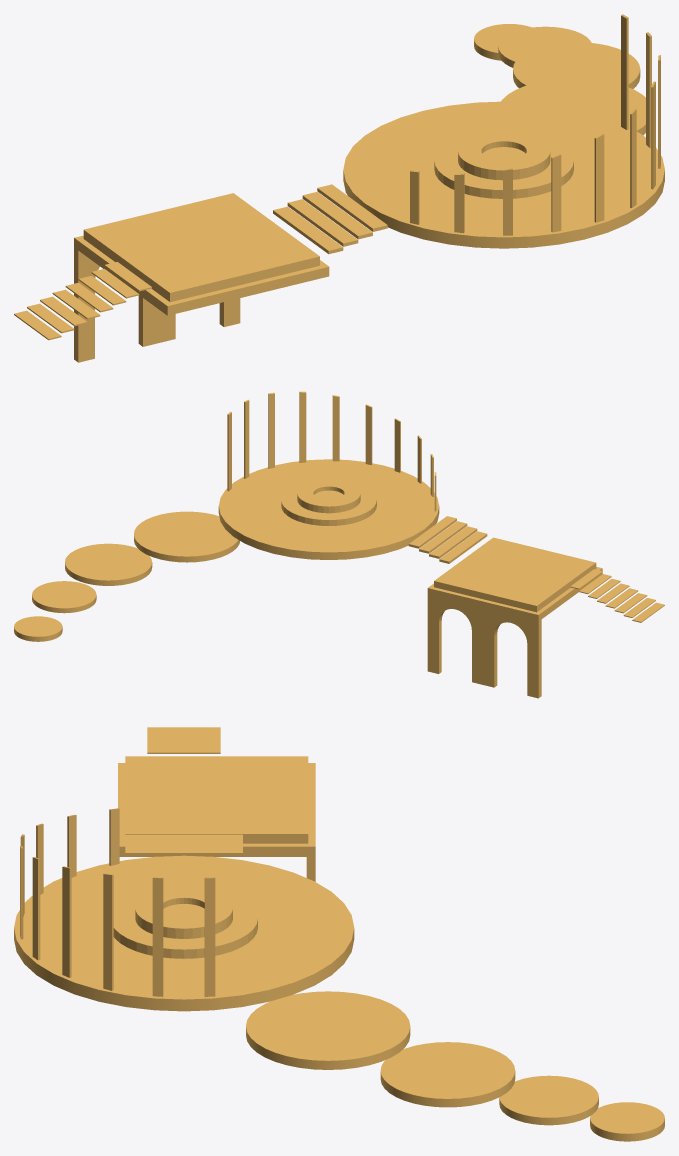
File: OU_AR_Astronomi_01_D.fbx
3 views of the same model, one above another, from view 1: azimuth 30°, elevation 25°; view 2: azimuth 150°, elevation 25°; view 3: azimuth 270°, elevation 25° (orthographic). The views are drawn at different scales.
Parts seen in each view (by area): view 1: OU_AR_Astronomi_01_D; view 2: OU_AR_Astronomi_01_D; view 3: OU_AR_Astronomi_01_D.
Part boxes in pixels (box(x1,y1,x2,y2)): OU_AR_Astronomi_01_D: box(14, 14, 664, 362); OU_AR_Astronomi_01_D: box(14, 391, 664, 698); OU_AR_Astronomi_01_D: box(14, 727, 664, 1141).
Bounding box in the file's own units: 3395 × 1150 × 2487.
